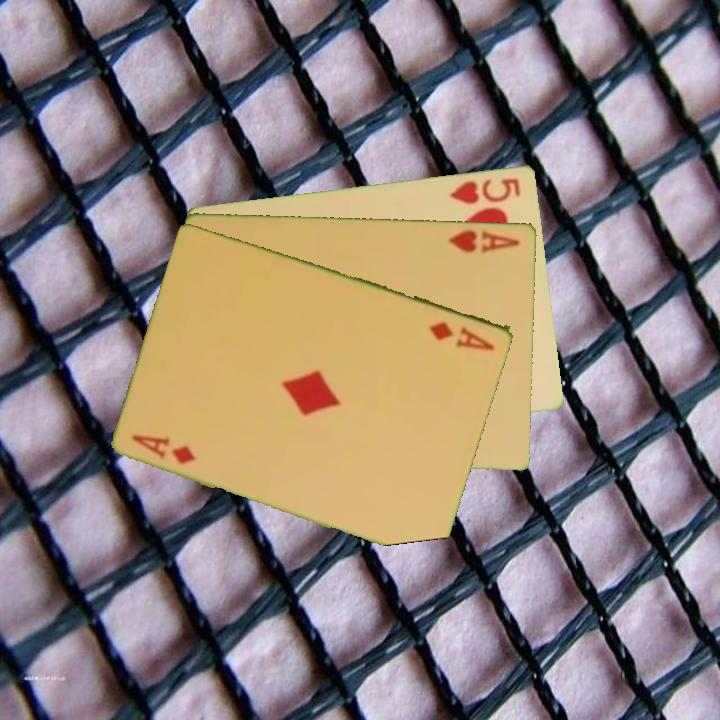5h: (446, 174, 524, 207)
Ad: (128, 430, 199, 467), (426, 317, 498, 353)
Ah: (445, 226, 523, 256)
